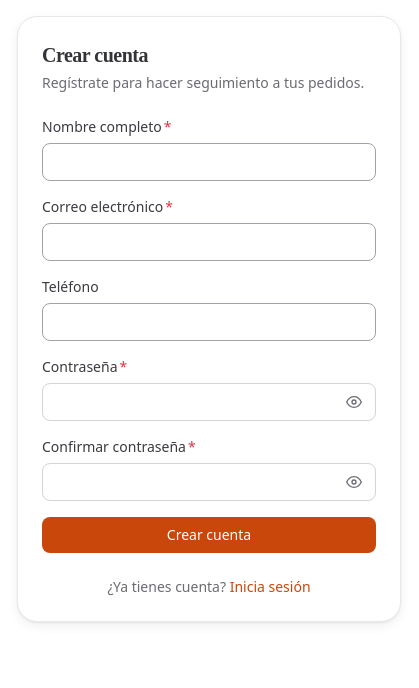
RegisterPage › muestra el mensaje de error cuando el correo ya está registrado
Type "Ana Pérez" into the field labelled "Nombre completo*".
click(209, 162); type("Ana Pérez")  # box [42,143,376,181]
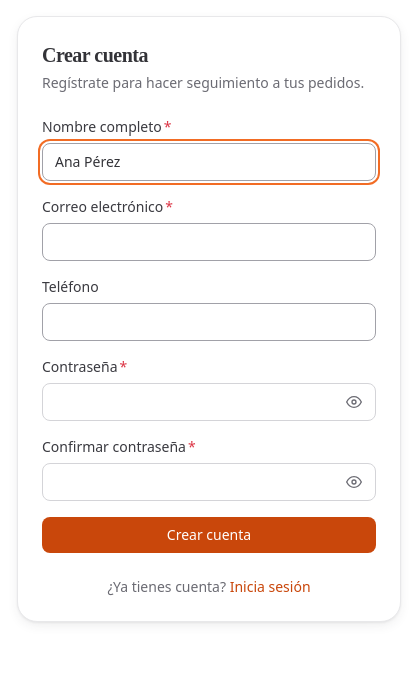
Type "ana@example.com" into the field labelled "Correo electrónico*".
click(209, 242); type("ana@example.com")  # box [42,223,376,261]
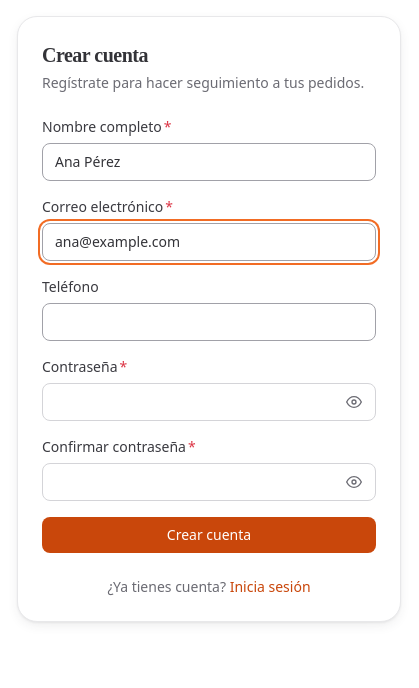
Type "secreto123" into the password field labelled "Contraseña*".
click(209, 402); type("secreto123")  # box [42,383,376,421]
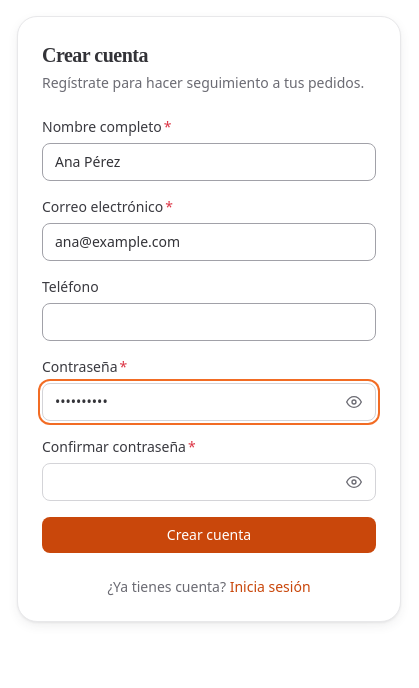
Type "secreto123" into the password field labelled "Confirmar contraseña*".
click(209, 482); type("secreto123")  # box [42,463,376,501]
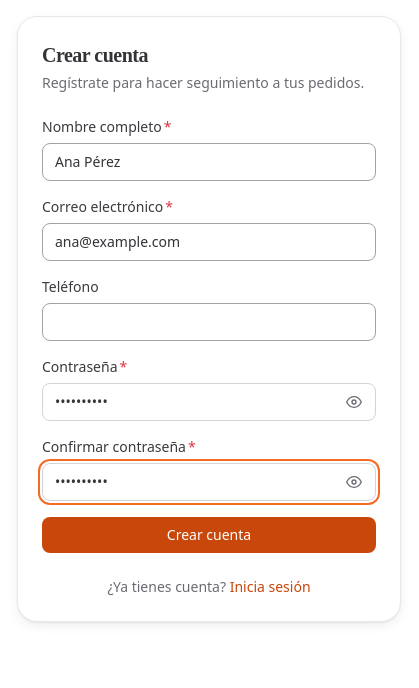
Click the button "Crear cuenta".
click(209, 535)  # box [42,517,376,553]
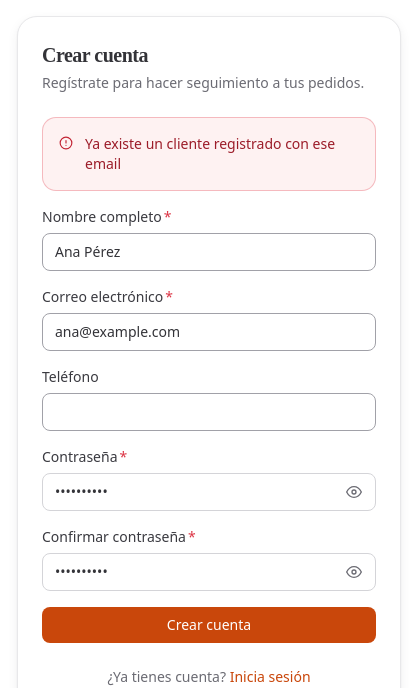
Check: the text "Ya existe un cliente registrado con ese email" is shown, box [85,134,359,174]
